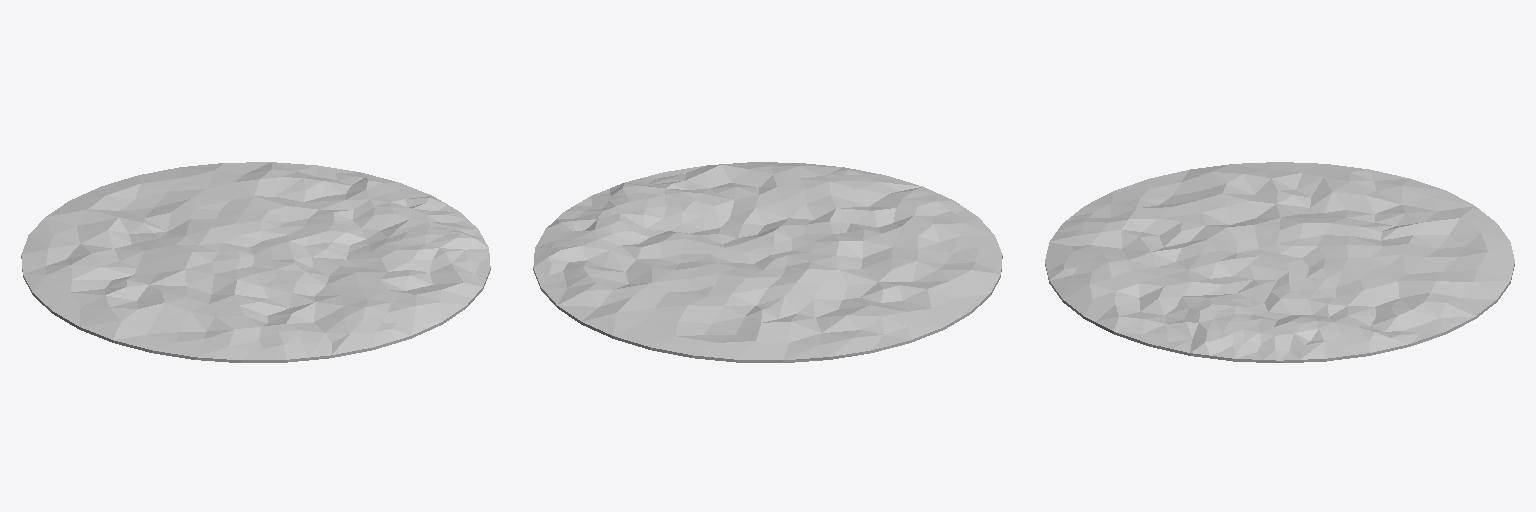
File: terrain.obj
The picture shows the model from 3 angles: view 1: azimuth 30°, elevation 25°; view 2: azimuth 150°, elevation 25°; view 3: azimuth 270°, elevation 25°; orthographic projection.
Visible parts, largest first — view 1: 실린더; view 2: 실린더; view 3: 실린더.
Boxes of the visible parts, <box> form: 실린더: <box>21,162,490,362</box>; 실린더: <box>533,162,1002,362</box>; 실린더: <box>1045,162,1514,362</box>.
Size of the model in its own units: 165 by 6.29 by 165.